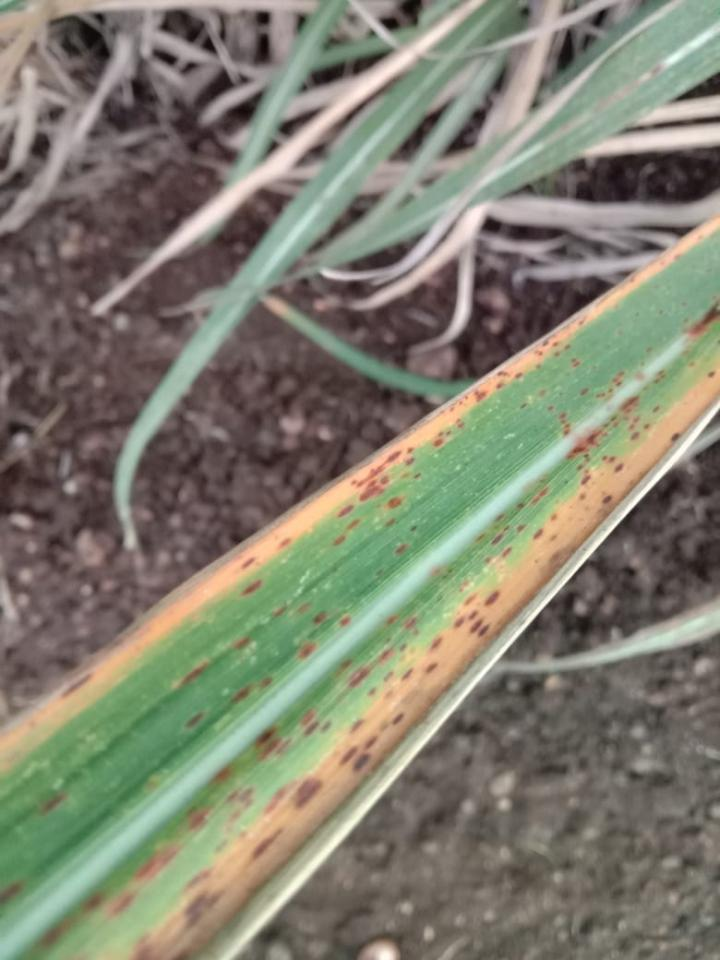RedRot: (682, 297, 719, 338), (570, 427, 605, 462), (617, 394, 642, 416), (630, 367, 650, 386)
Rust: (130, 773, 327, 959), (23, 795, 218, 959), (335, 585, 505, 772), (432, 335, 578, 449), (328, 442, 430, 549), (470, 480, 556, 569), (333, 611, 428, 687), (249, 708, 335, 765), (533, 507, 584, 572), (267, 601, 353, 632), (603, 405, 661, 442), (568, 431, 602, 490), (574, 368, 629, 403), (172, 655, 214, 696), (227, 672, 277, 705), (32, 787, 72, 824), (0, 878, 32, 919), (437, 560, 472, 596), (56, 670, 92, 704), (181, 702, 211, 735), (638, 367, 666, 393), (293, 640, 321, 665), (601, 452, 626, 478), (578, 490, 614, 508), (557, 313, 592, 331), (555, 411, 575, 441), (241, 577, 266, 599), (209, 762, 234, 783), (237, 553, 258, 575), (232, 632, 254, 652), (680, 349, 697, 369), (277, 535, 292, 551), (694, 231, 712, 244), (536, 386, 551, 401), (569, 356, 583, 372), (669, 427, 682, 444), (391, 544, 409, 556), (515, 398, 530, 412), (542, 402, 557, 413), (383, 518, 398, 528), (680, 296, 692, 308), (706, 367, 718, 379), (643, 344, 655, 356), (374, 569, 384, 582), (408, 523, 419, 534), (616, 327, 625, 338), (657, 308, 667, 317), (632, 309, 642, 318), (683, 315, 692, 323), (673, 252, 682, 260), (640, 360, 647, 368)
Yellow: (0, 214, 719, 774), (110, 362, 719, 959)
